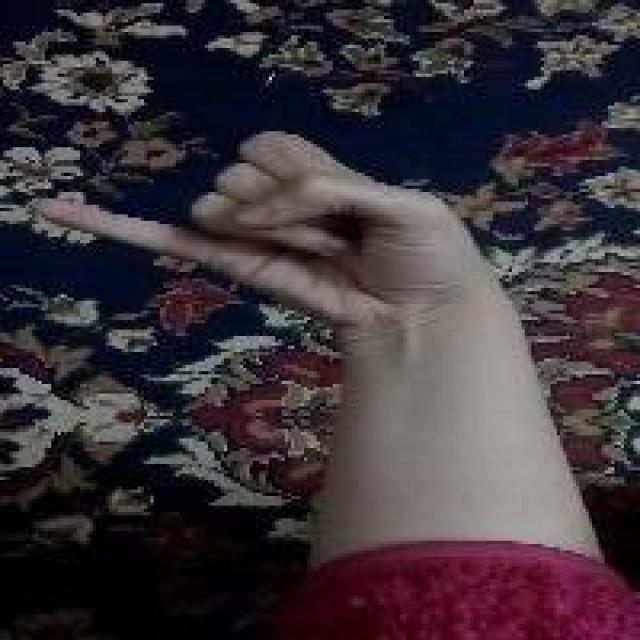J: (24, 130, 501, 331)
